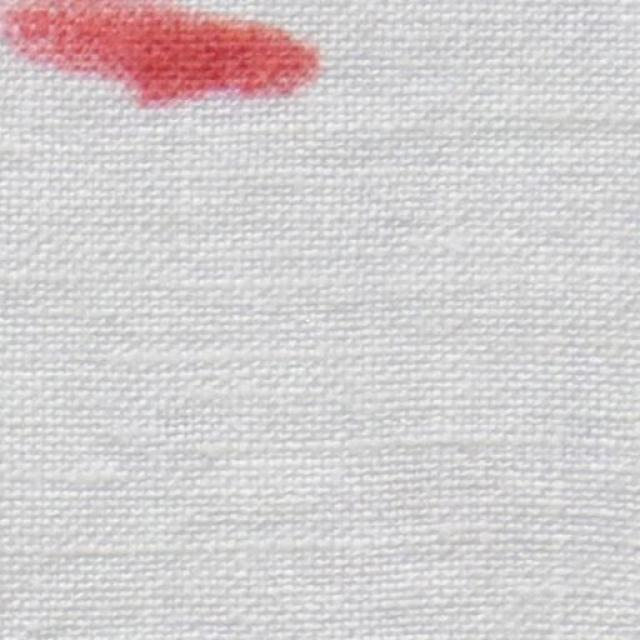Stain: (18, 0, 306, 106)
